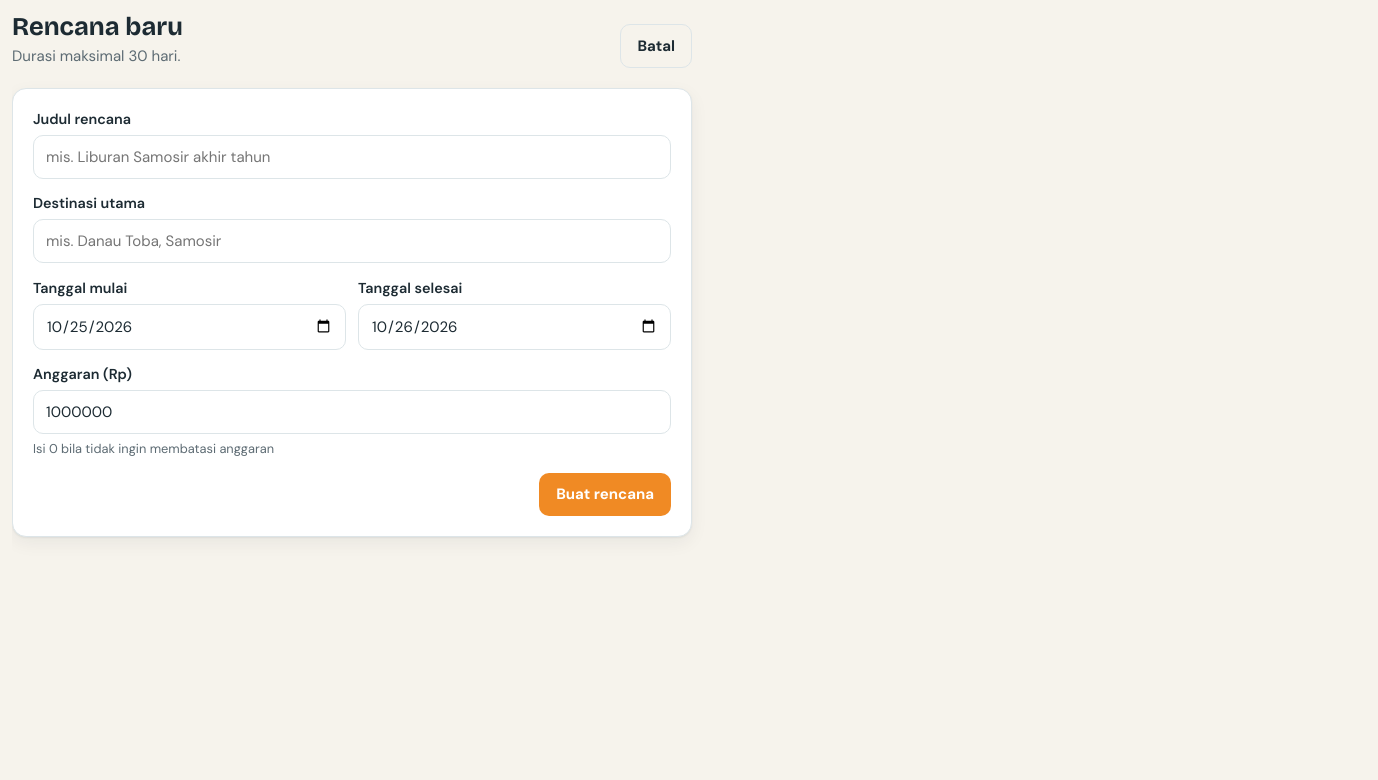
Test: formulir rencana › membuat rencana baru lalu membuka detailnya
Step 1. Type "Liburan Samosir" into the field labelled "Judul rencana" → coordinates (352, 157), box [33,135,671,179]
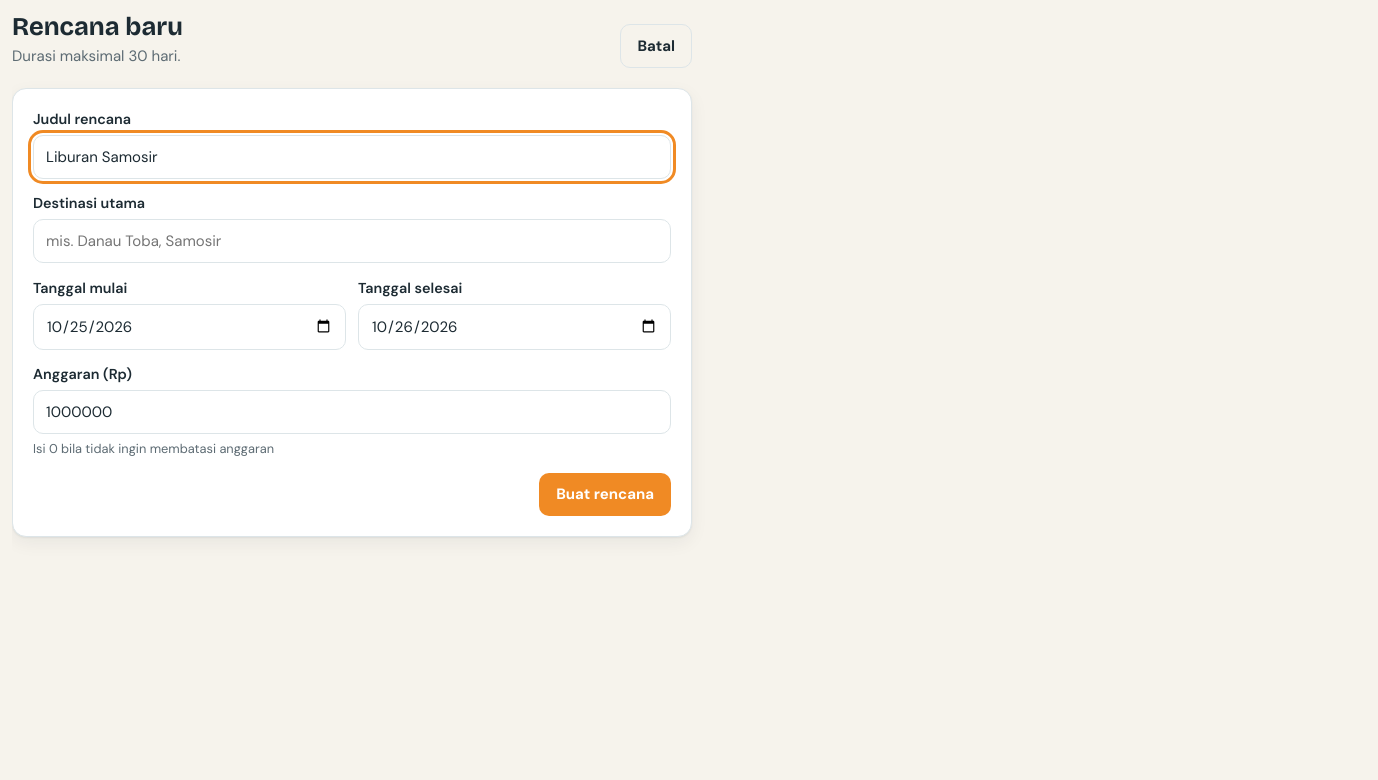
Step 2. Type "Danau Toba" into the field labelled "Destinasi utama" → coordinates (352, 241), box [33,220,671,263]
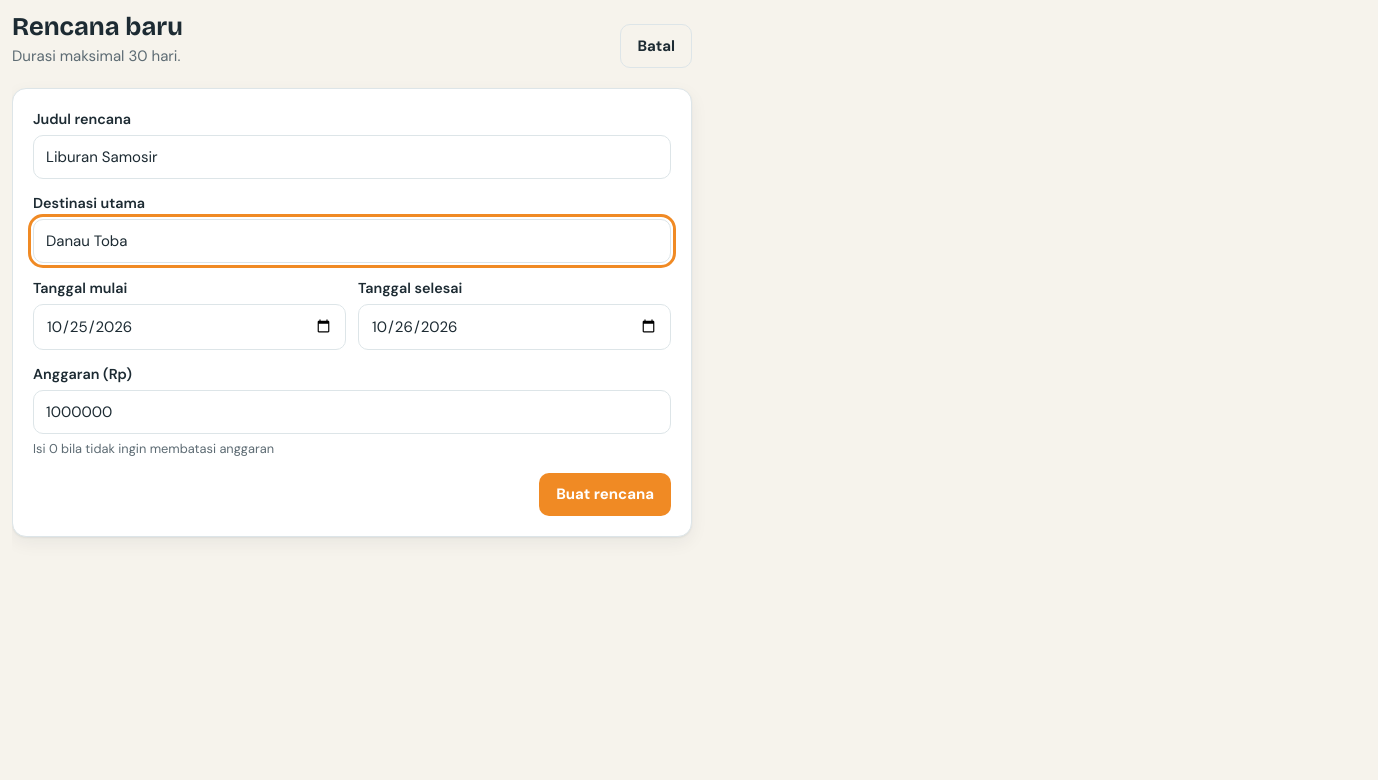
Step 3. Click the button "Buat rencana" → coordinates (605, 494), box [539,472,671,516]
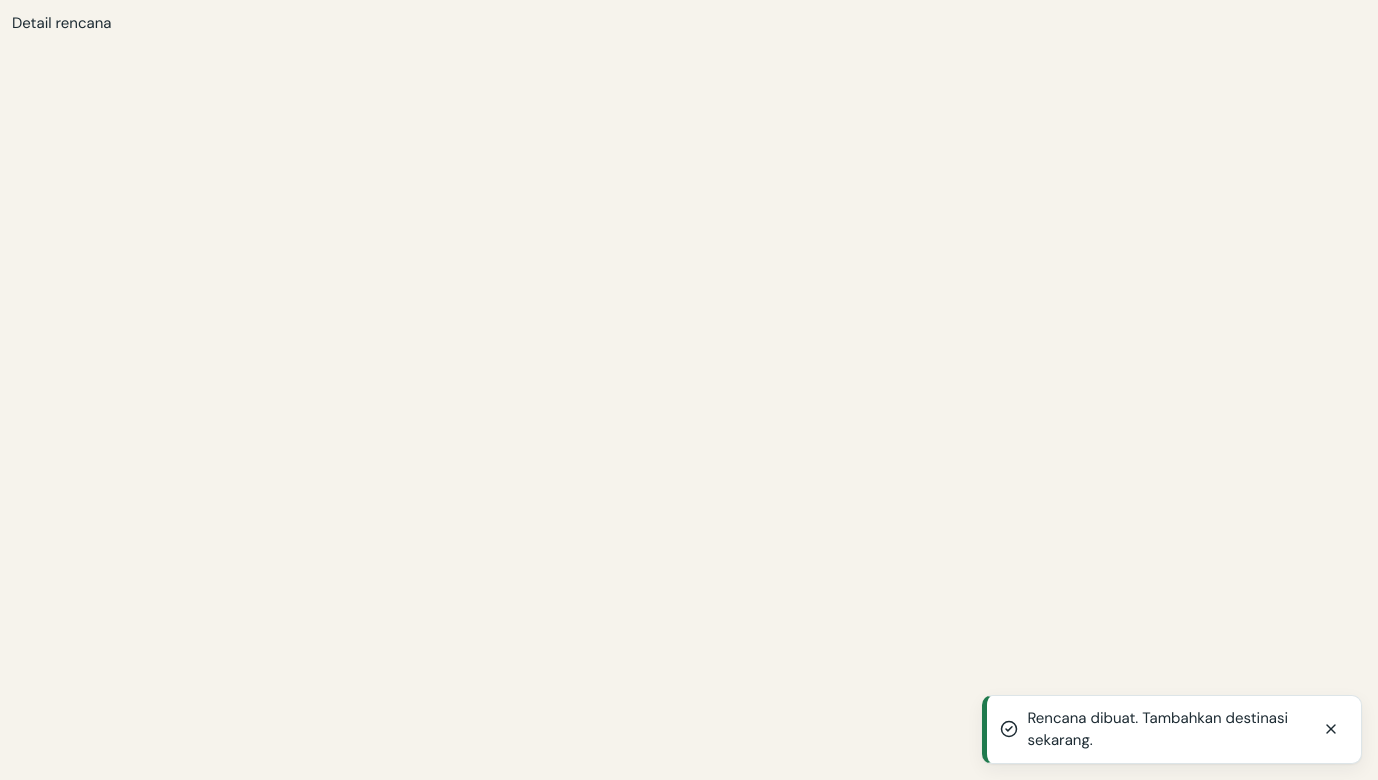
Check: the text "Detail rencana" is shown, box [12,13,112,33]
